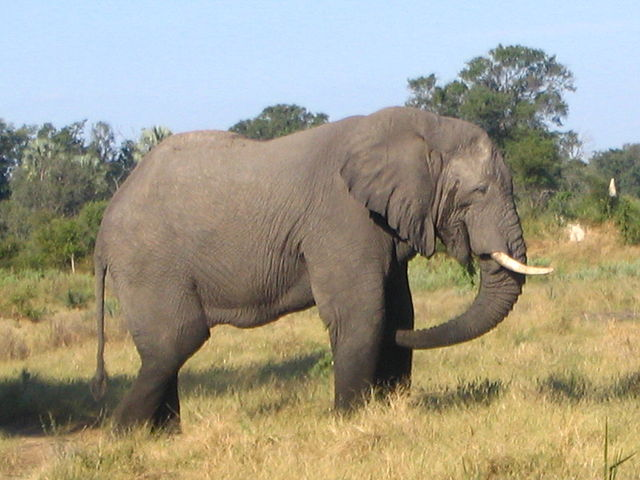elephant: (73, 103, 564, 442)
